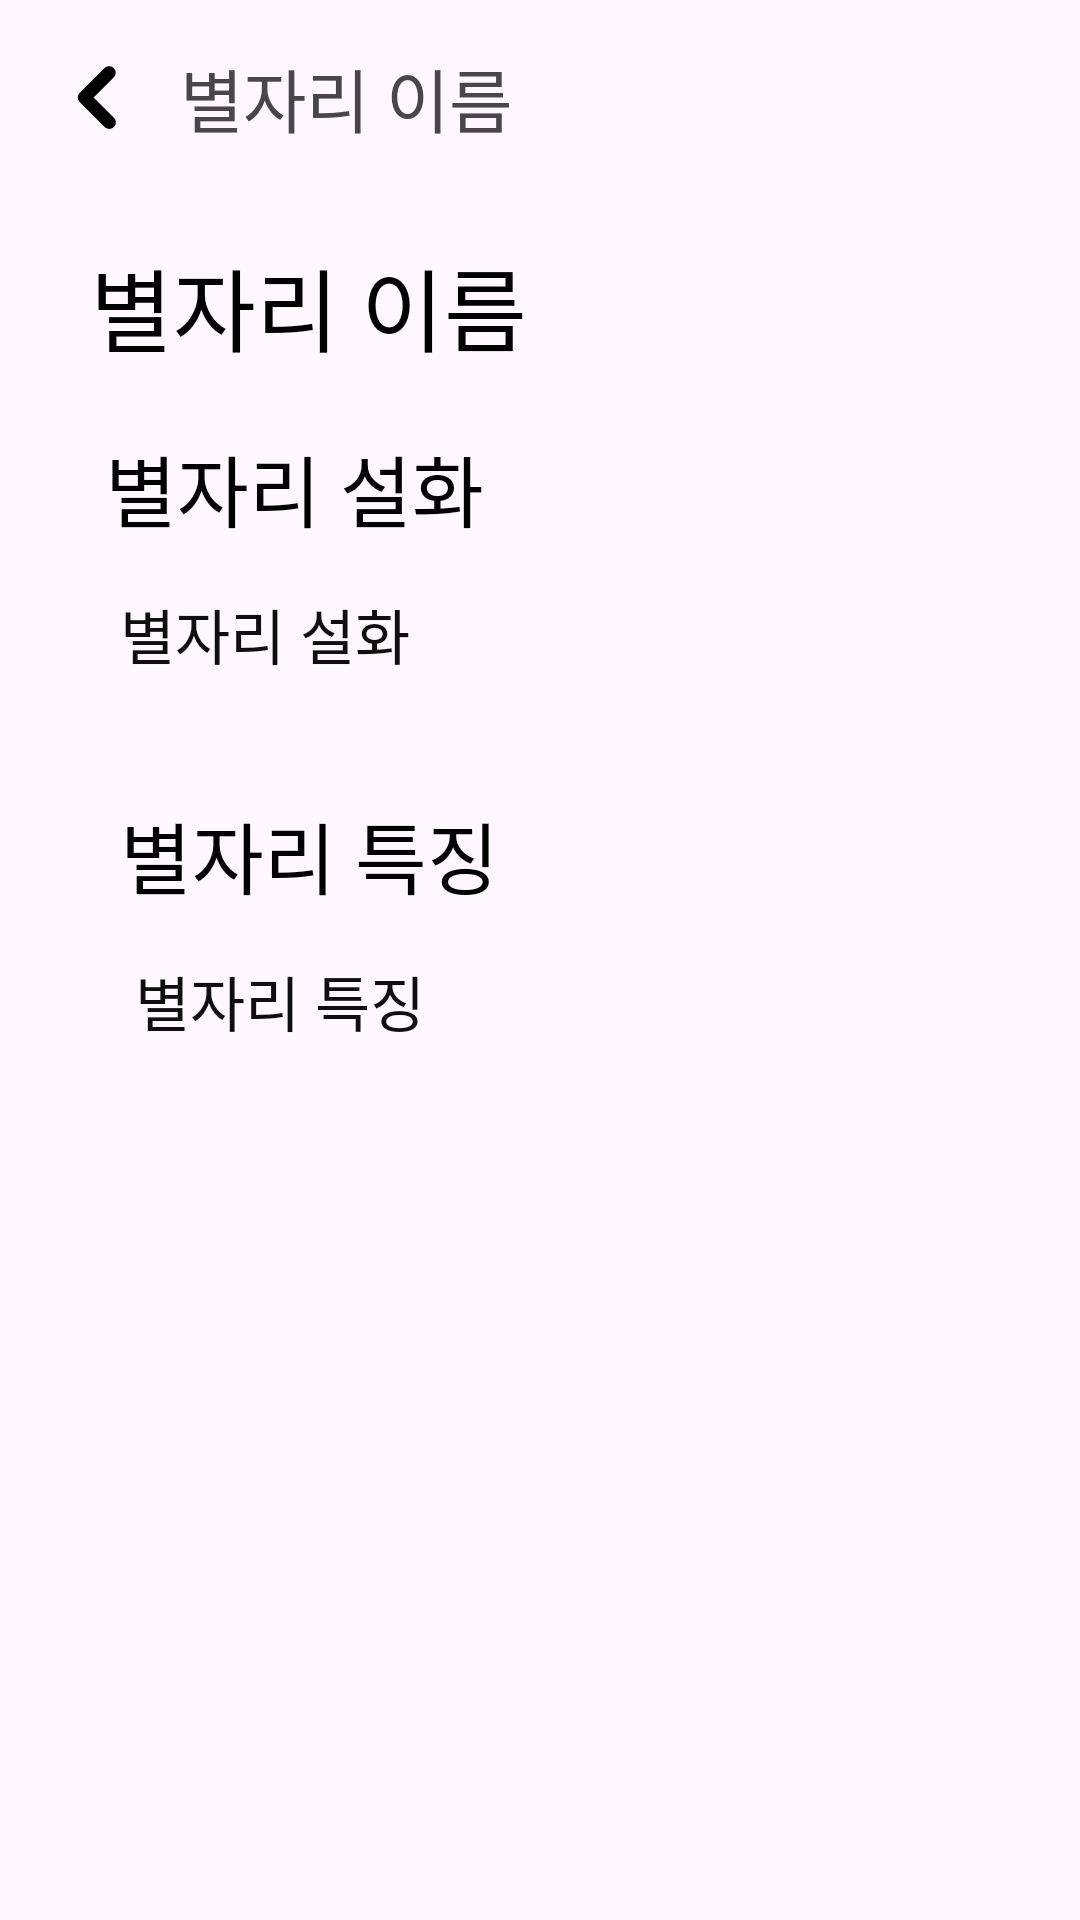

Icons on this 1080 × 1920 Android screen, each with its box as (x1, y1, x2, y2):
arrow back: (77, 66, 116, 129)
